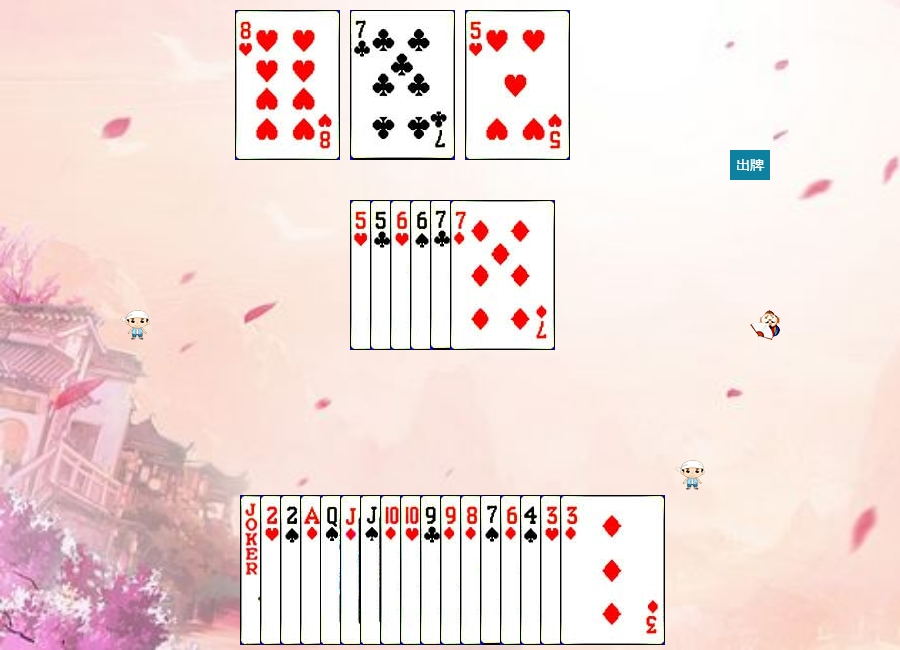10~1: (380, 495, 485, 645)
10~3: (400, 495, 505, 645)
11~1: (340, 495, 445, 645)
11~4: (360, 495, 465, 645)
12~4: (320, 495, 425, 645)
14~1: (300, 495, 405, 645)
15~3: (260, 495, 365, 645)
15~4: (280, 495, 385, 645)
18~4: (240, 495, 345, 645)
3~1: (560, 495, 665, 645)
3~3: (540, 495, 645, 645)
4~4: (520, 495, 625, 645)
5~2: (370, 200, 475, 350)
5~3: (465, 10, 570, 160), (350, 200, 455, 350)
6~1: (500, 495, 605, 645)
6~3: (390, 200, 495, 350)
6~4: (410, 200, 515, 350)
7~1: (450, 200, 555, 350)
7~2: (350, 10, 455, 160), (430, 200, 535, 350)
7~4: (480, 495, 585, 645)
8~1: (460, 495, 565, 645)
8~3: (235, 10, 340, 160)
9~1: (440, 495, 545, 645)
9~2: (420, 495, 525, 645)
